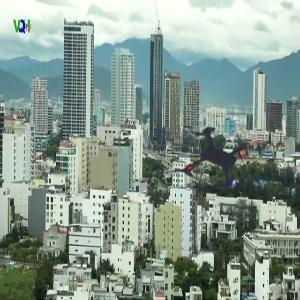drone: (140, 79, 293, 232)
